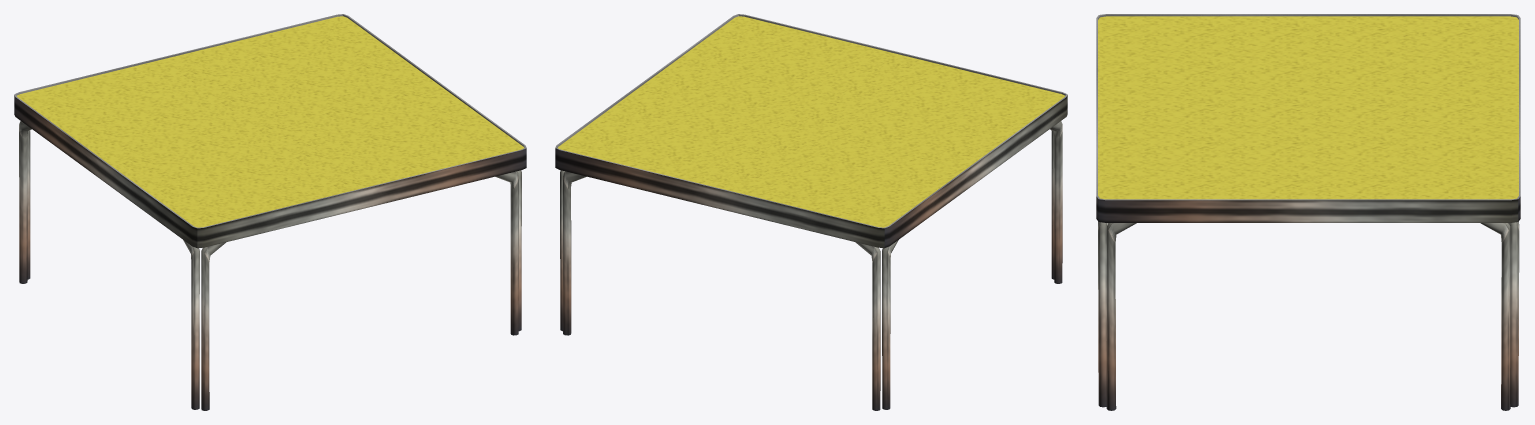
Rendered from Dining_Table_02_A.FBX.
The picture shows the model from 3 angles, left to right: view 1: azimuth 30°, elevation 25°; view 2: azimuth 150°, elevation 25°; view 3: azimuth 270°, elevation 25°; orthographic projection. The views are drawn at different scales.
Parts seen in each view (by area): view 1: Dining_Table; view 2: Dining_Table; view 3: Dining_Table.
Part boxes in pixels (x1,y1,x2,y2): Dining_Table: (14,14,526,410); Dining_Table: (555,14,1067,410); Dining_Table: (1096,14,1520,410).
Bounding box in the file's own units: 264 × 140 × 254.
